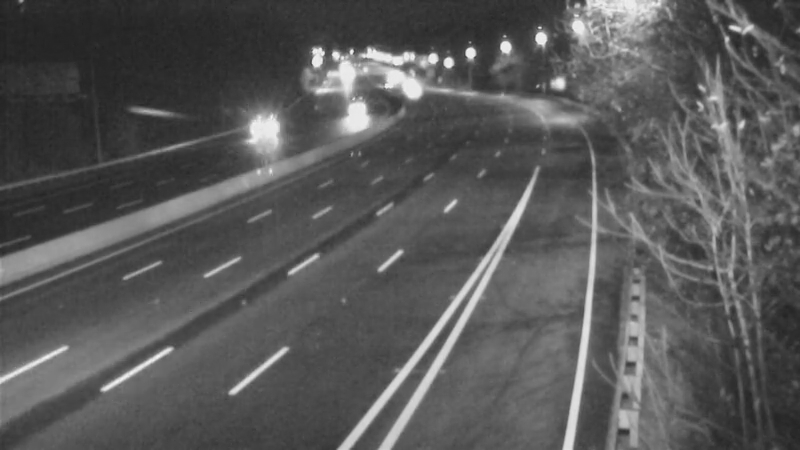vehicle: (385, 66, 435, 116), (233, 107, 283, 157), (326, 89, 376, 139)
